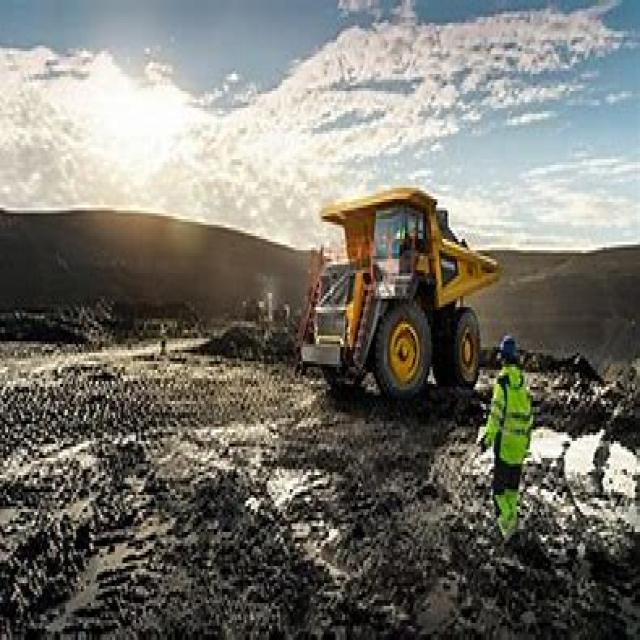dump_truck: (292, 165, 506, 401)
